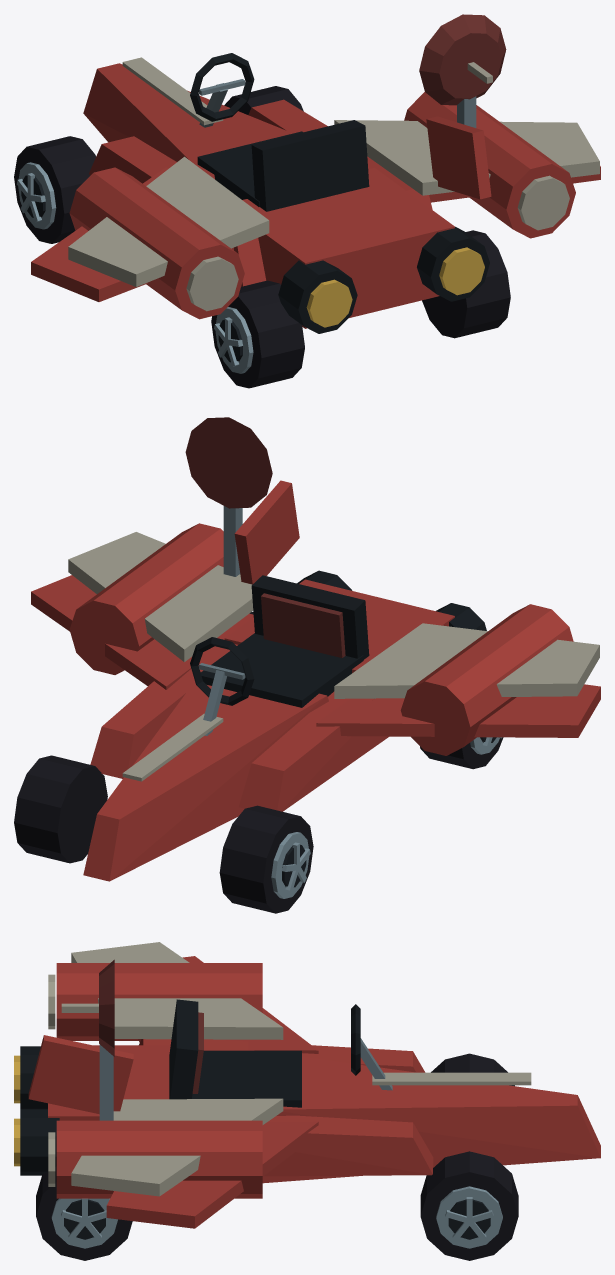
File: kart.glb
The picture shows the model from 3 angles, top to bottom: view 1: azimuth 30°, elevation 25°; view 2: azimuth 150°, elevation 25°; view 3: azimuth 270°, elevation 25°; orthographic projection. The views are drawn at different scales.
Visible parts, largest first — view 1: identity-starfighter-starfighter-flight-planform, identity-starfighter-motif-engine-pods, identity-starfighter-motif-wings, identity-starfighter-driver-cockpit, wheel-rear-left, identity-starfighter-motif-radar, wheel-front-left, wheel-rear-right, wheel-front-right; view 2: identity-starfighter-starfighter-flight-planform, identity-starfighter-motif-engine-pods, identity-starfighter-motif-wings, identity-starfighter-driver-cockpit, wheel-front-left, wheel-front-right, identity-starfighter-motif-radar, wheel-rear-left; view 3: identity-starfighter-starfighter-flight-planform, identity-starfighter-motif-engine-pods, identity-starfighter-motif-wings, identity-starfighter-driver-cockpit, wheel-front-right, wheel-rear-right, identity-starfighter-motif-radar, wheel-front-left.
Part boxes in pixels (left/top/right/bottom): identity-starfighter-starfighter-flight-planform: left=31, top=57, right=600, bottom=333; identity-starfighter-motif-engine-pods: left=69, top=92, right=575, bottom=319; identity-starfighter-motif-wings: left=68, top=120, right=599, bottom=286; identity-starfighter-driver-cockpit: left=190, top=53, right=369, bottom=211; wheel-rear-left: left=211, top=280, right=304, bottom=388; identity-starfighter-motif-radar: left=419, top=14, right=506, bottom=127; wheel-front-left: left=14, top=136, right=95, bottom=243; wheel-rear-right: left=422, top=230, right=510, bottom=338; wheel-front-right: left=224, top=86, right=303, bottom=114; identity-starfighter-starfighter-flight-planform: left=31, top=480, right=600, bottom=881; identity-starfighter-motif-engine-pods: left=69, top=523, right=573, bottom=755; identity-starfighter-motif-wings: left=68, top=532, right=599, bottom=698; identity-starfighter-driver-cockpit: left=190, top=575, right=369, bottom=735; wheel-front-left: left=219, top=805, right=313, bottom=913; wheel-front-right: left=14, top=755, right=107, bottom=863; identity-starfighter-motif-radar: left=185, top=417, right=272, bottom=576; wheel-rear-left: left=420, top=737, right=503, bottom=769; identity-starfighter-starfighter-flight-planform: left=14, top=956, right=600, bottom=1228; identity-starfighter-motif-engine-pods: left=48, top=963, right=262, bottom=1198; identity-starfighter-motif-wings: left=71, top=942, right=283, bottom=1196; identity-starfighter-driver-cockpit: left=169, top=999, right=392, bottom=1107; wheel-front-right: left=420, top=1151, right=518, bottom=1260; wheel-rear-right: left=36, top=1166, right=132, bottom=1260; identity-starfighter-motif-radar: left=61, top=959, right=114, bottom=1120; wheel-front-left: left=431, top=1053, right=514, bottom=1086.
Size of the model in its own units: 3.14 by 1.65 by 2.99.
